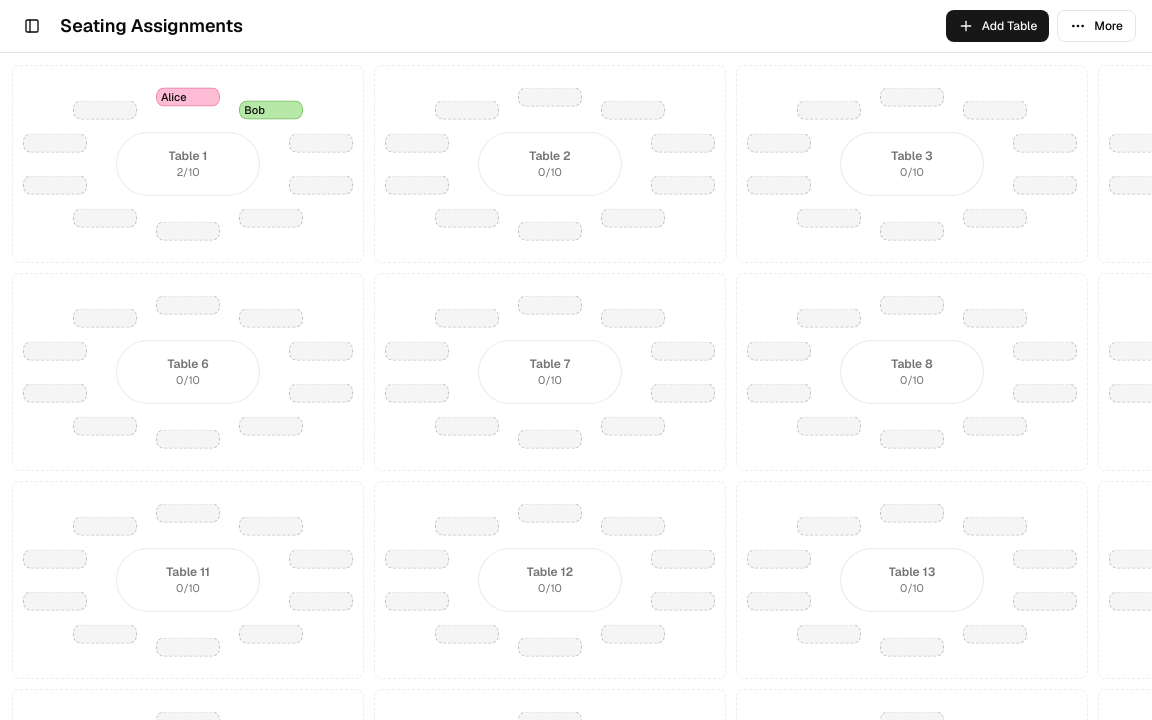
Scenario: guest hovercards › restarts the full delay when moving between seated guests
Check: the element showing "Alice" is shown, box [156,88,220,107]
Hover over the element showing "Bob" at point(271, 110), box [239,100,303,119]
Wait 1200 ms
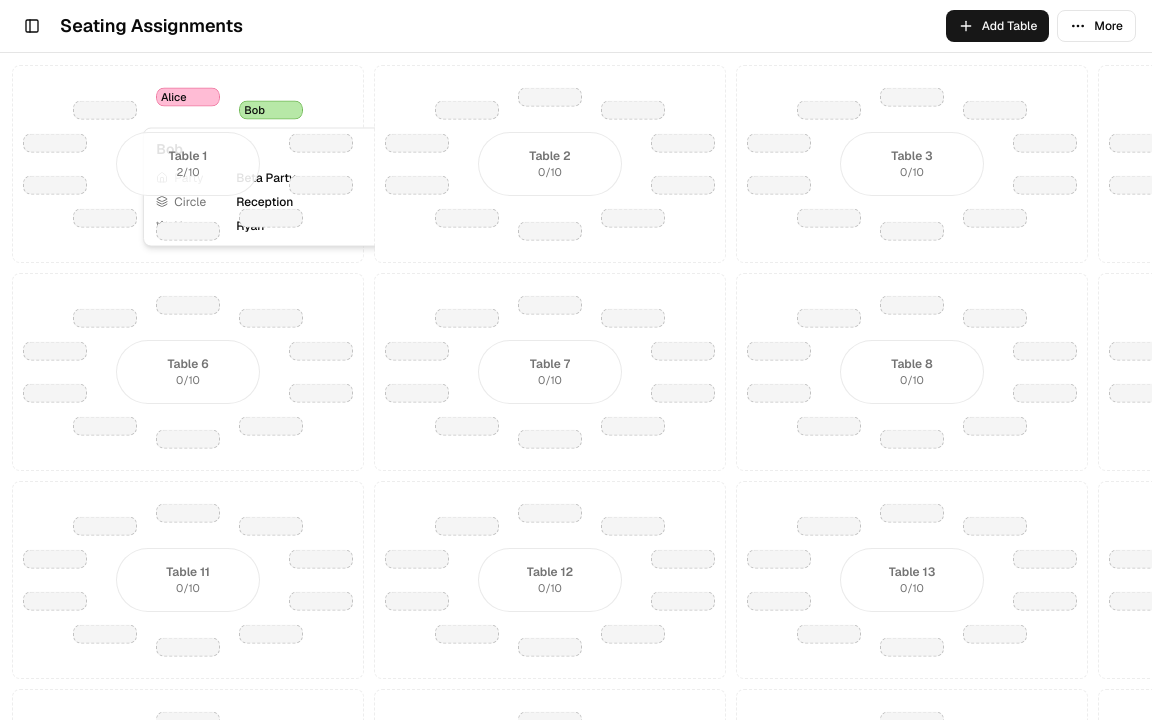
Check: the text "Beta Party" is shown, box [236,170,296,186]
